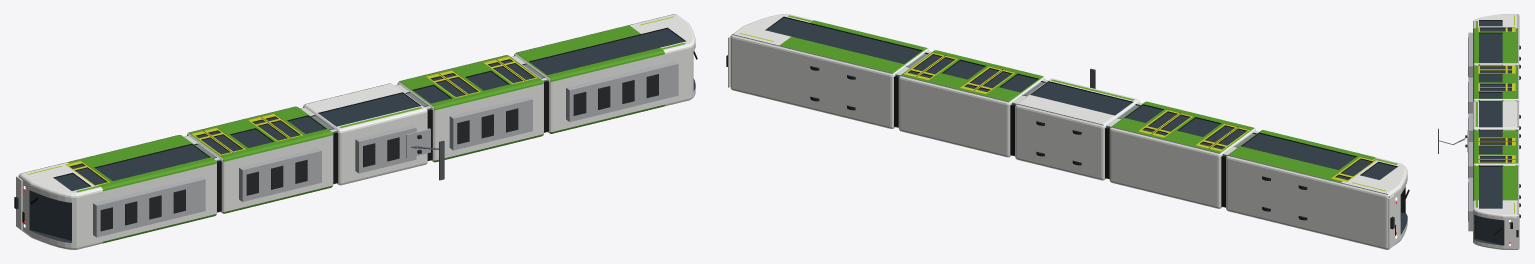
The picture shows the model from 3 angles, left to right: view 1: azimuth 30°, elevation 25°; view 2: azimuth 150°, elevation 25°; view 3: azimuth 270°, elevation 25°; orthographic projection. The views are drawn at different scales.
Parts seen in each view (by area): view 1: C2_body_s0, C2_body_s4, C2_body_s1, C2_body_s3, C2_body_s2, C2_roof_pod_021, C2_roof_pod_037, C2_roof_pod_033, C2_roof_pod_026, C2_roof_pod_030, C2_pan_base_042; view 2: C2_body_s0, C2_body_s4, C2_body_s3, C2_body_s1, C2_body_s2; view 3: C2_body_s4, C2_body_s0, C2_body_s1, C2_body_s3, C2_body_s2, C2_roof_pod_037, C2_roof_pod_021, C2_bumper_017, C2_roof_pod_026, C2_roof_pod_033, C2_roof_pod_030.
Boxes of the visible parts, bbox=[...] form: C2_body_s0: bbox=[18, 135, 216, 249]; C2_body_s4: bbox=[514, 14, 695, 133]; C2_body_s1: bbox=[186, 106, 333, 213]; C2_body_s3: bbox=[397, 55, 543, 162]; C2_body_s2: bbox=[303, 83, 427, 185]; C2_roof_pod_021: bbox=[93, 176, 205, 237]; C2_roof_pod_037: bbox=[566, 61, 678, 121]; C2_roof_pod_033: bbox=[449, 96, 532, 150]; C2_roof_pod_026: bbox=[239, 148, 321, 201]; C2_roof_pod_030: bbox=[355, 125, 416, 173]; C2_pan_base_042: bbox=[406, 128, 430, 158]; C2_body_s0: bbox=[1226, 130, 1407, 249]; C2_body_s4: bbox=[730, 14, 928, 128]; C2_body_s3: bbox=[898, 50, 1044, 157]; C2_body_s1: bbox=[1109, 101, 1255, 208]; C2_body_s2: bbox=[1015, 78, 1139, 180]; C2_body_s4: bbox=[1473, 166, 1519, 249]; C2_body_s0: bbox=[1473, 14, 1519, 66]; C2_body_s1: bbox=[1473, 65, 1519, 101]; C2_body_s3: bbox=[1473, 130, 1519, 166]; C2_body_s2: bbox=[1473, 101, 1519, 130]; C2_roof_pod_037: bbox=[1468, 177, 1472, 231]; C2_roof_pod_021: bbox=[1468, 32, 1472, 77]; C2_bumper_017: bbox=[1513, 217, 1519, 248]; C2_roof_pod_026: bbox=[1468, 77, 1472, 113]; C2_roof_pod_033: bbox=[1468, 142, 1472, 177]; C2_roof_pod_030: bbox=[1468, 113, 1472, 141].
Size of the model in its own units: 32.88 by 2.65 by 5.64.
